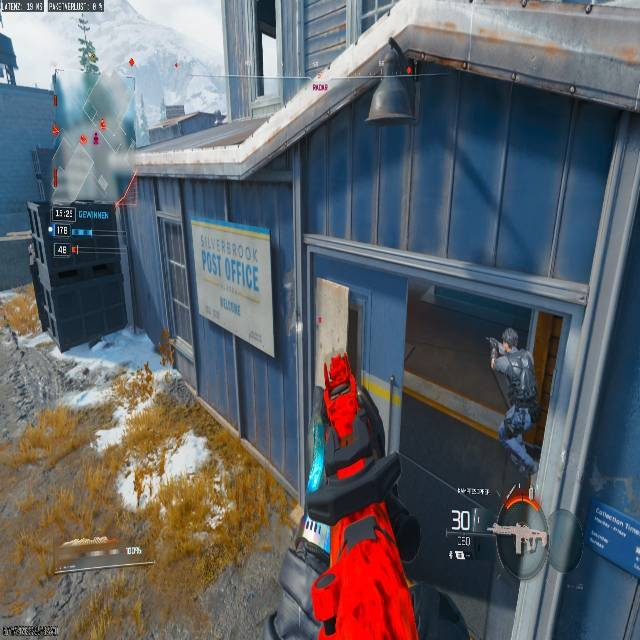head: (324, 352, 350, 384), (501, 328, 518, 348)
player: (284, 351, 428, 635), (487, 328, 550, 477)
